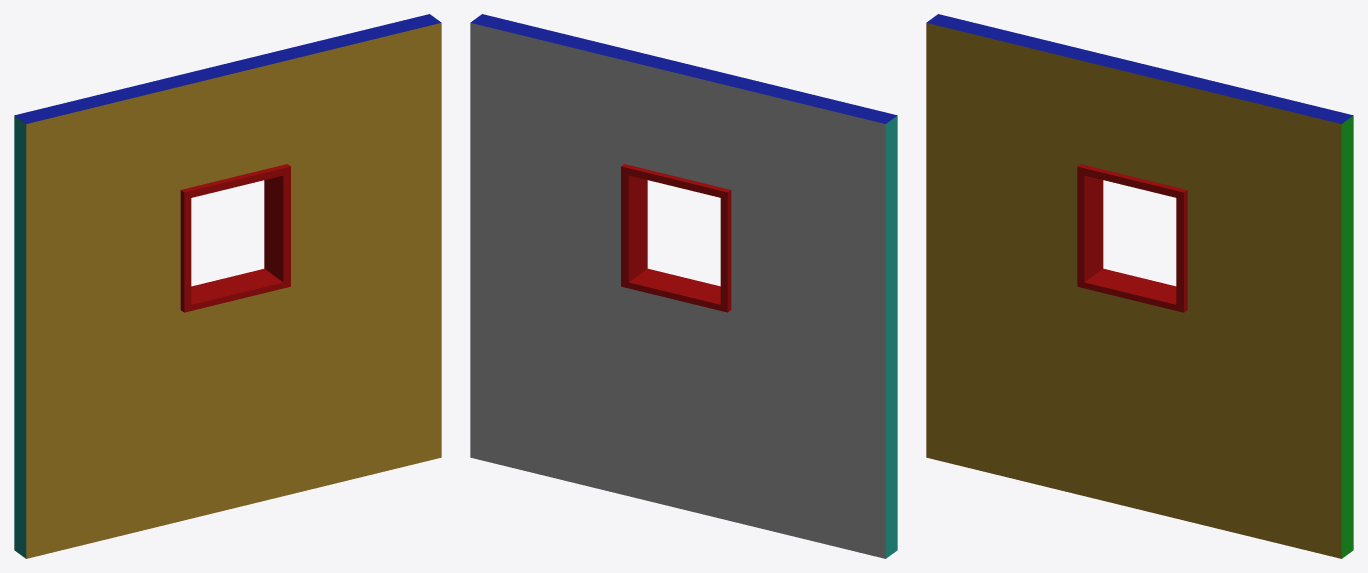
The model's file is Wall_Window_03b.fbx.
The picture shows the model from 3 angles, left to right: view 1: azimuth 30°, elevation 25°; view 2: azimuth 150°, elevation 25°; view 3: azimuth 330°, elevation 25°; orthographic projection.
Visible parts, largest first — view 1: Wall_Window_03b; view 2: Wall_Window_03b; view 3: Wall_Window_03b.
Boxes of the visible parts, left/top/right/bottom form: Wall_Window_03b: left=14, top=14, right=441, bottom=558; Wall_Window_03b: left=470, top=14, right=897, bottom=558; Wall_Window_03b: left=926, top=14, right=1353, bottom=558.
Size of the model in its own units: 3 by 0.2364 by 3.
